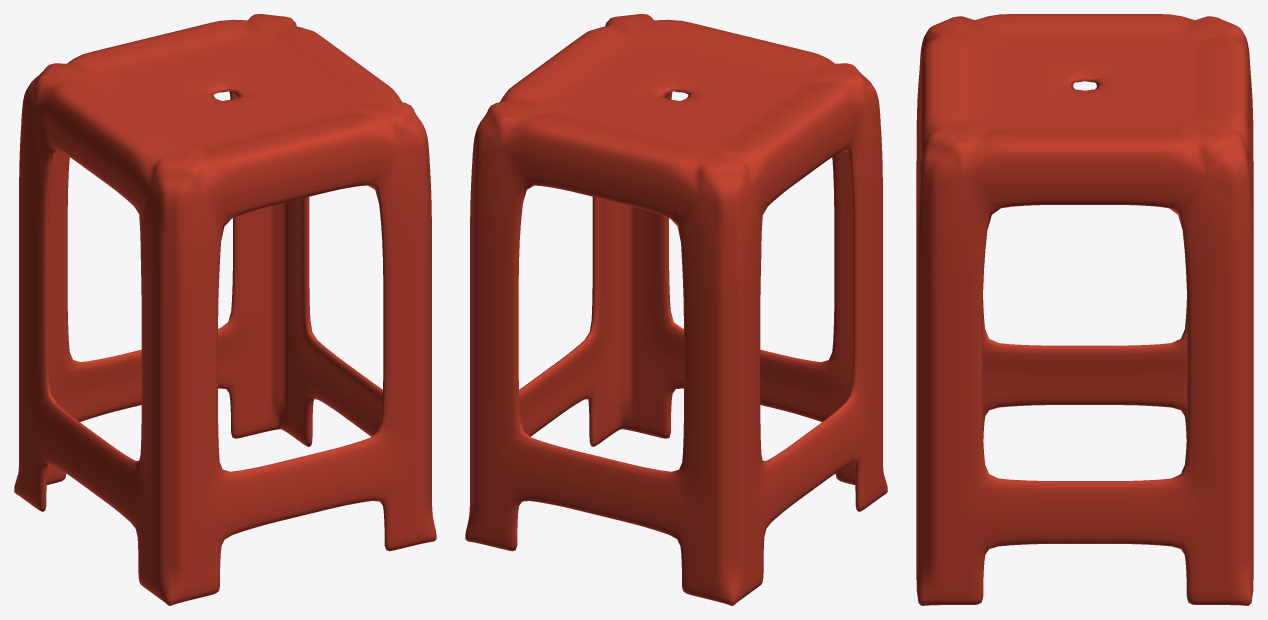
Rendered from stool.glb.
The picture shows the model from 3 angles, left to right: view 1: azimuth 30°, elevation 25°; view 2: azimuth 150°, elevation 25°; view 3: azimuth 270°, elevation 25°; orthographic projection. The views are drawn at different scales.
Visible parts, largest first — view 1: Cube; view 2: Cube; view 3: Cube.
Part boxes in pixels (bbox=[...]): Cube: bbox=[14, 14, 436, 605]; Cube: bbox=[465, 14, 887, 605]; Cube: bbox=[916, 14, 1253, 605].
Bounding box in the file's own units: 2 × 3 × 2.
